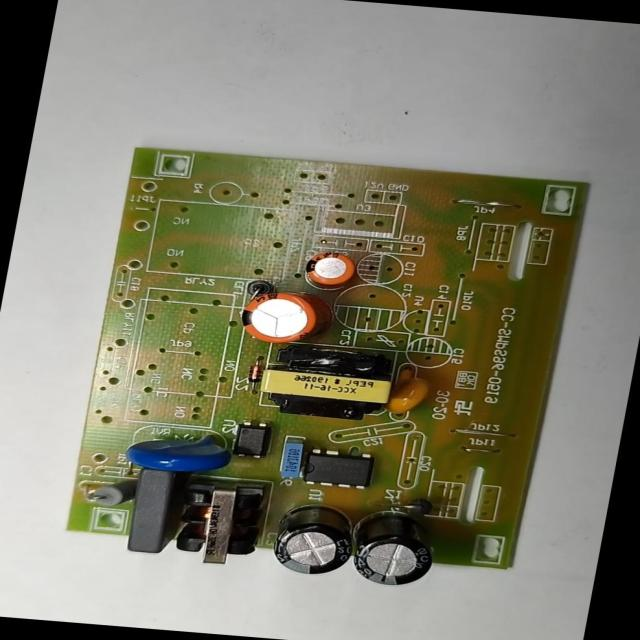Cap1: (233, 287, 324, 347)
Cap2: (300, 248, 357, 288)
Cap3: (268, 497, 365, 580)
Cap4: (348, 506, 444, 590)
MOSFET: (297, 444, 381, 492)
Mov: (116, 428, 238, 478)
Resistor: (86, 475, 136, 510)
Transformer: (255, 341, 400, 424), (170, 479, 268, 568)
